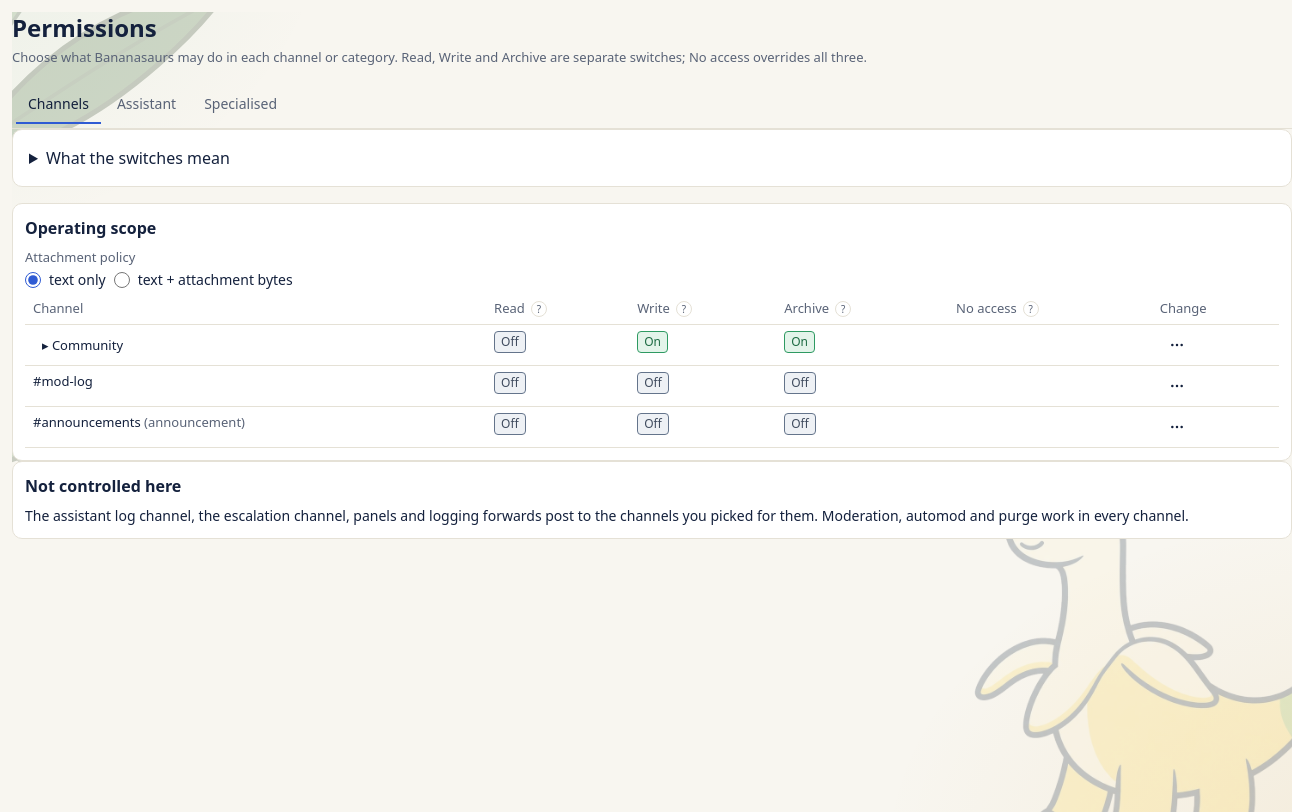
Scenario: PermissionsPage › shows effective state: via-category, off, and the category row itself
The width and height of the screenshot is (1292, 812).
What coordinates should you click on to do the following:
click the button "▸ Community"
I would click on:
 (82, 345)
Its box is [33,331,132,359].
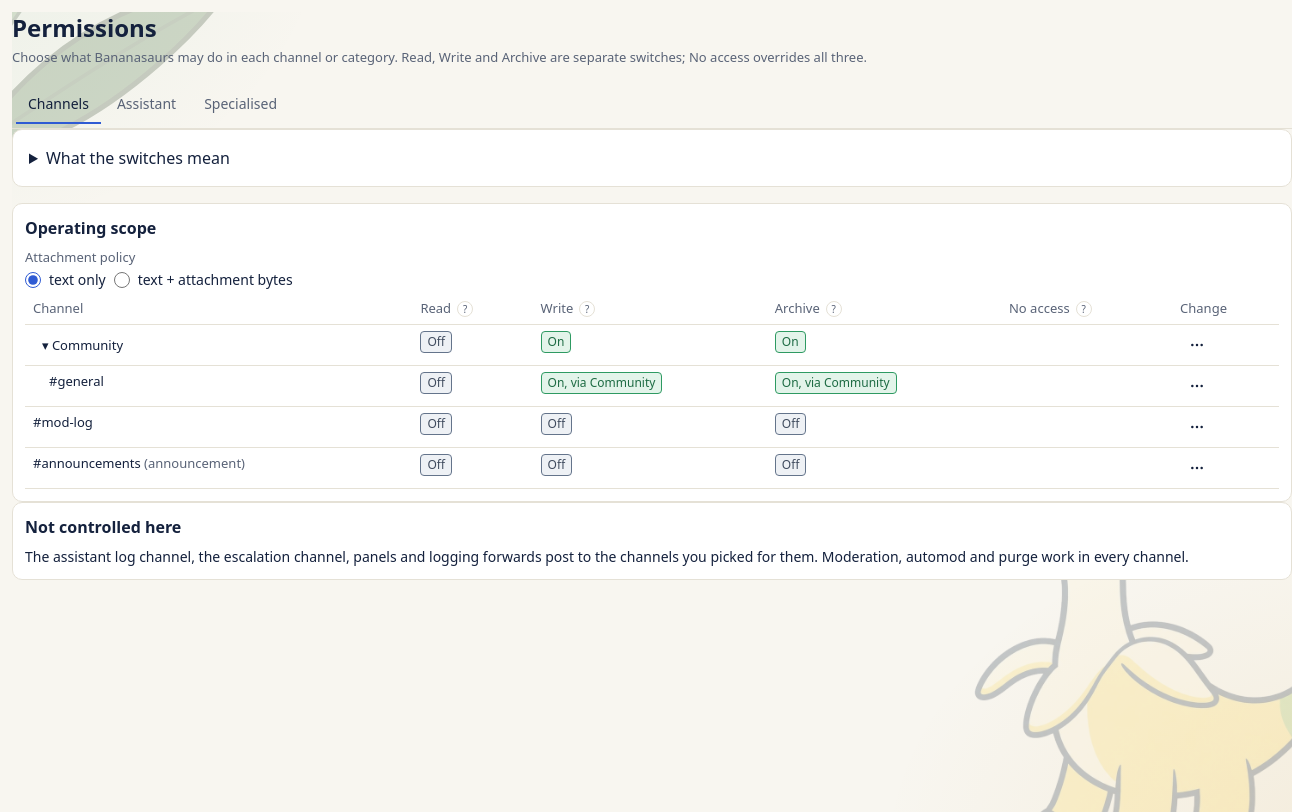
Expected: the 1st text "Off" is shown, [420,331,452,353]
Expected: the text "On, via Community" is shown 2 times, [540,372,662,394]; [775,372,897,394]
# The specialised surfaces are linked, not duplicated.
What coordinates should you click on to do the following:
click the tab "Specialised"
I would click on:
 (241, 105)
Its box is [192,86,289,124].
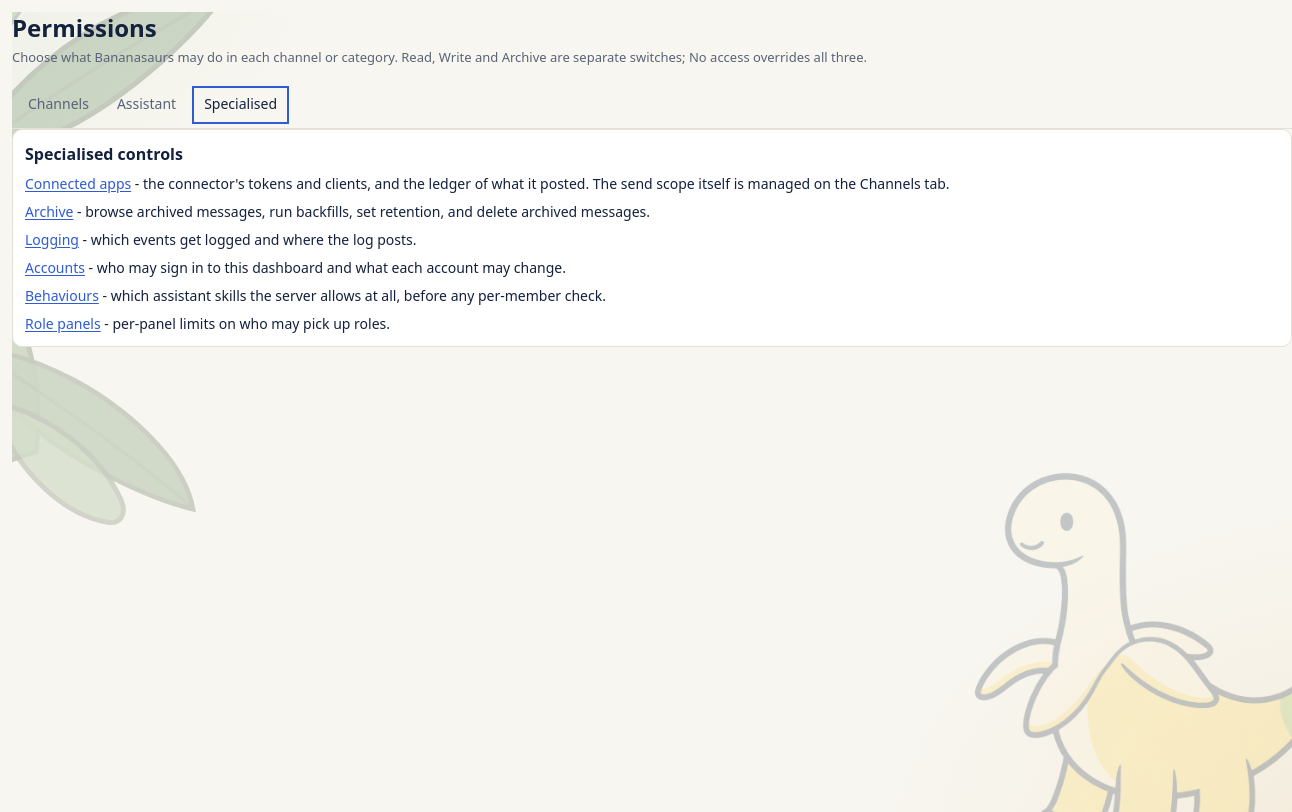
Expected: the link "Connected apps" is shown, [25,174,131,193]
Expected: the link "Archive" is shown, [25,202,74,221]
